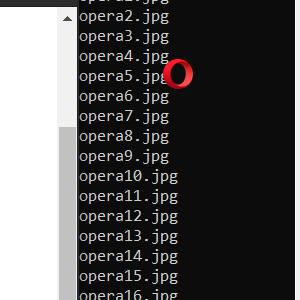opera: (163, 59, 193, 90)
